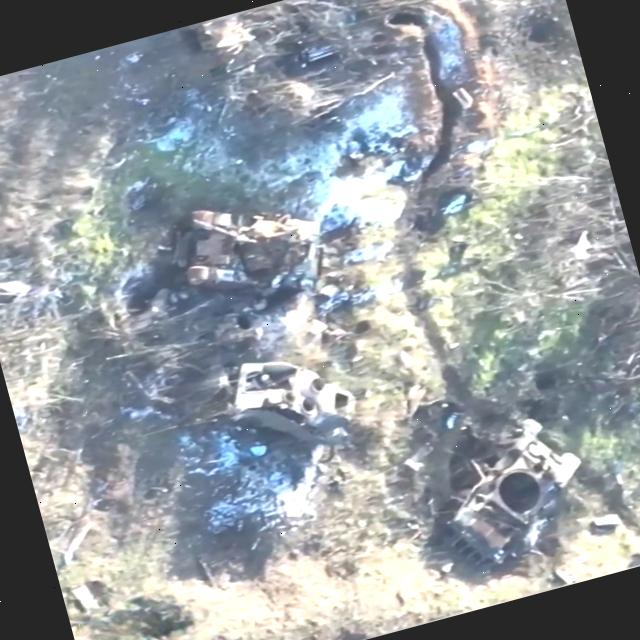Destroyed: (420, 405, 604, 576), (166, 181, 343, 325), (211, 334, 365, 469)
